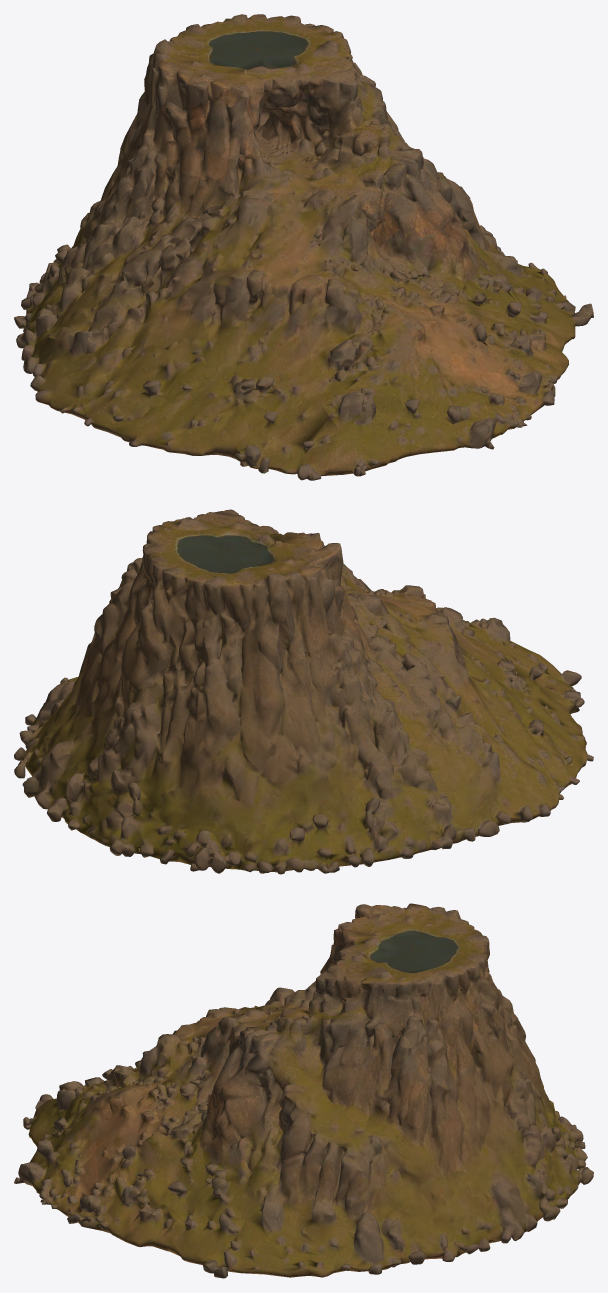
The model's file is mountain.glb.
3 views of the same model, one above another, from view 1: azimuth 30°, elevation 25°; view 2: azimuth 150°, elevation 25°; view 3: azimuth 270°, elevation 25° (orthographic). The views are drawn at different scales.
Parts seen in each view (by area): view 1: Mesh_0; view 2: Mesh_0; view 3: Mesh_0.
Part boxes in pixels (<box>): Mesh_0: <box>14,14,593,480</box>; Mesh_0: <box>14,509,593,874</box>; Mesh_0: <box>14,903,593,1278</box>.
Bounding box in the file's own units: 98.22 × 46.97 × 106.
1 material, 1 textured.
